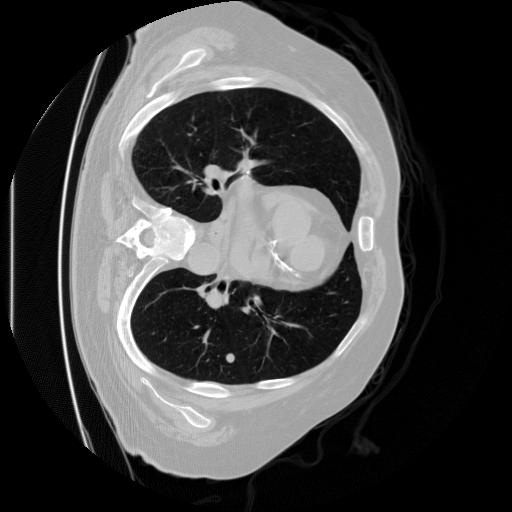nodule: (224, 350, 239, 365)
